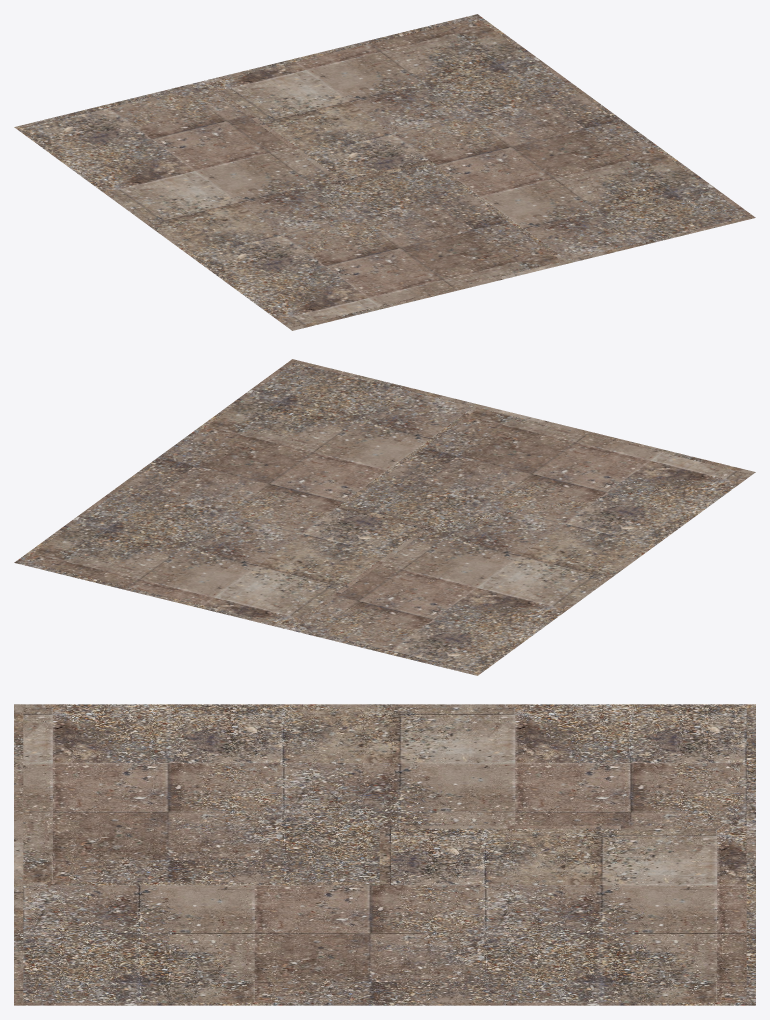
File: PisoSotano.fbx
The picture shows the model from 3 angles, top to bottom: view 1: azimuth 30°, elevation 25°; view 2: azimuth 150°, elevation 25°; view 3: azimuth 270°, elevation 25°; orthographic projection. The views are drawn at different scales.
Parts seen in each view (by area): view 1: Sotano-Suelo; view 2: Sotano-Suelo; view 3: Sotano-Suelo.
Part boxes in pixels (x1,y1,x2,y2): Sotano-Suelo: (14, 14, 755, 330); Sotano-Suelo: (14, 359, 755, 675); Sotano-Suelo: (14, 704, 755, 1005).
Bounding box in the file's own units: 3087 × 0.000523 × 3211.
1 material, 1 textured.
